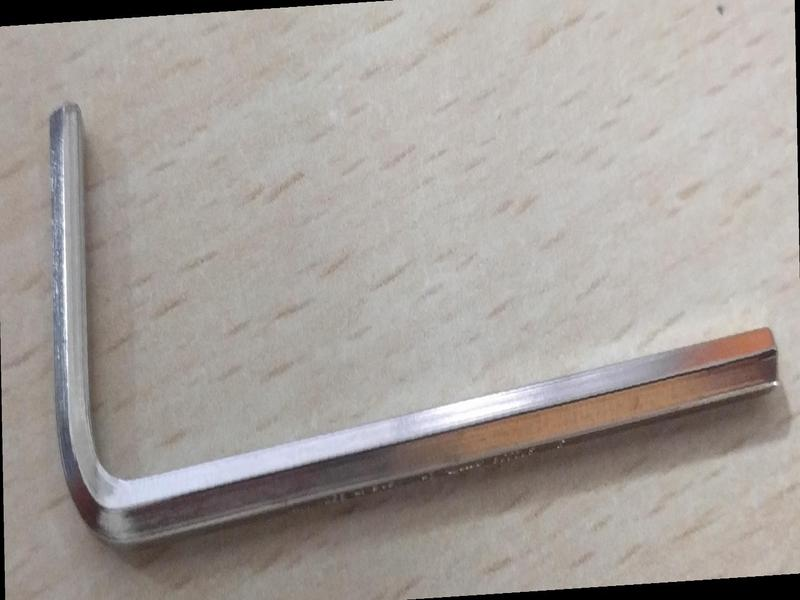turner: (43, 96, 784, 545)
